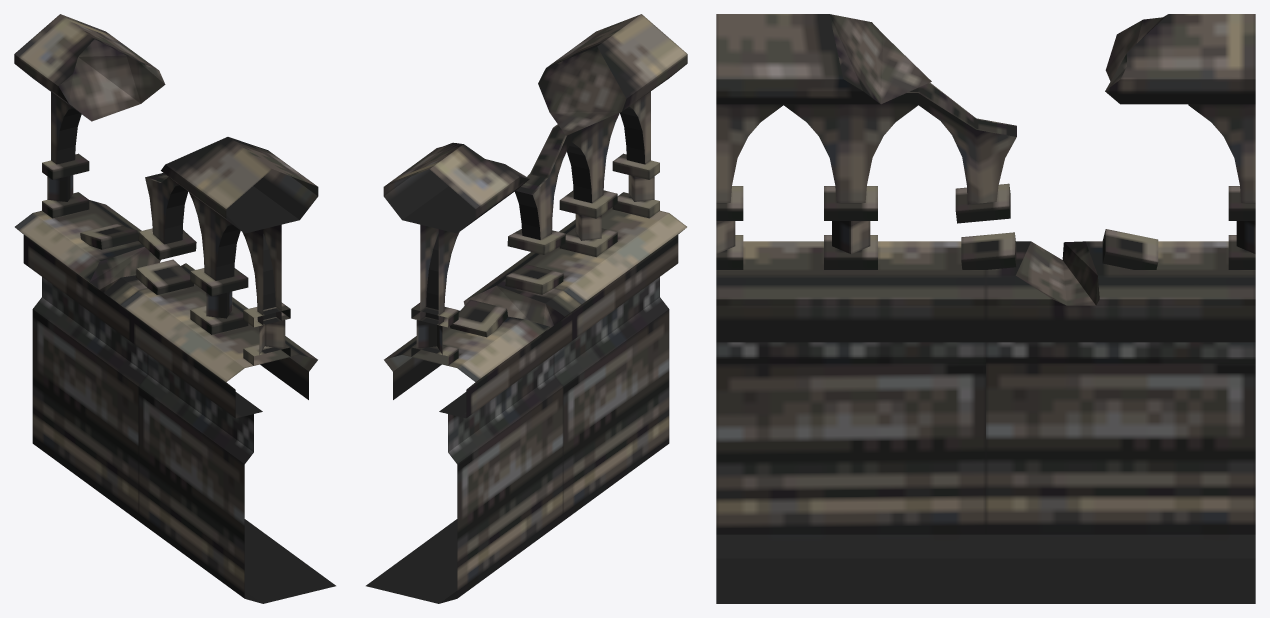
File: EnvMdrMD_Castle_A_Fence_B.FBX
The picture shows the model from 3 angles, left to right: view 1: azimuth 30°, elevation 25°; view 2: azimuth 150°, elevation 25°; view 3: azimuth 270°, elevation 25°; orthographic projection. The views are drawn at different scales.
Parts seen in each view (by area): view 1: EnvMdrMD_Castle_A_Fence_B; view 2: EnvMdrMD_Castle_A_Fence_B; view 3: EnvMdrMD_Castle_A_Fence_B.
Part boxes in pixels (<box>): EnvMdrMD_Castle_A_Fence_B: <box>14,14,335,603</box>; EnvMdrMD_Castle_A_Fence_B: <box>366,14,687,603</box>; EnvMdrMD_Castle_A_Fence_B: <box>716,14,1255,603</box>.
Size of the model in its own units: 60 by 225 by 200.
1 material, 1 textured.
